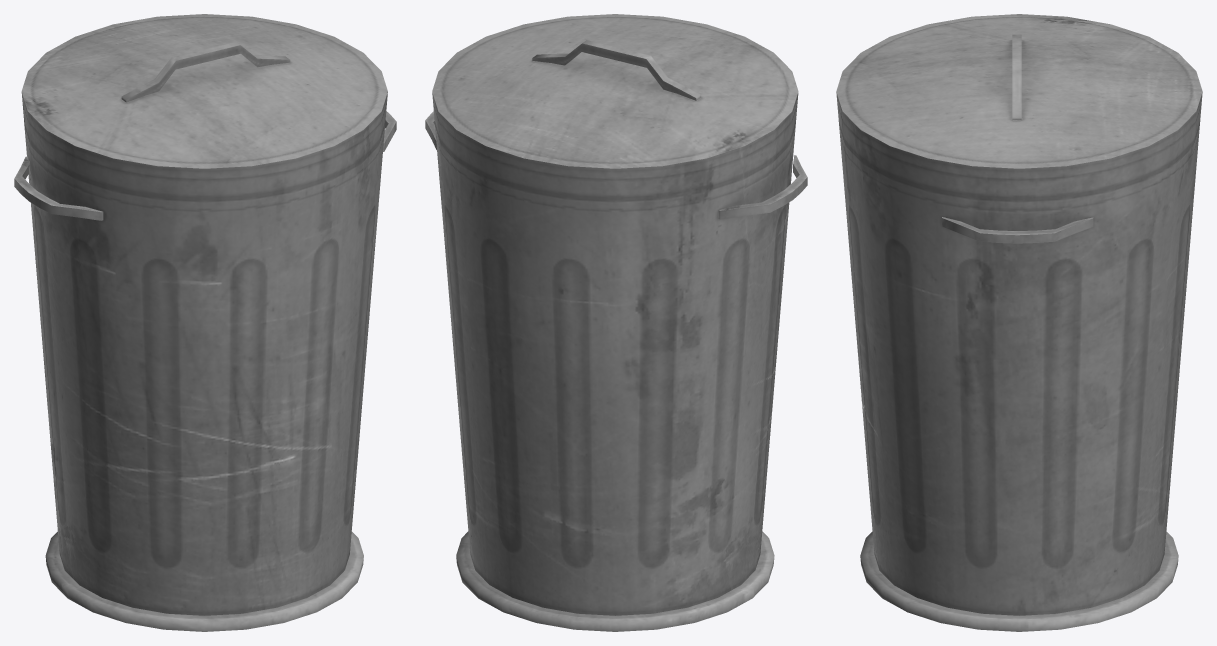
Rendered from Trashcan_a.fbx.
3 views of the same model, side by side, from view 1: azimuth 30°, elevation 25°; view 2: azimuth 150°, elevation 25°; view 3: azimuth 270°, elevation 25° (orthographic).
Visible parts, largest first — view 1: Trashcan_a; view 2: Trashcan_a; view 3: Trashcan_a.
Part boxes in pixels (bbox=[...]): Trashcan_a: bbox=[14, 14, 396, 631]; Trashcan_a: bbox=[425, 14, 807, 631]; Trashcan_a: bbox=[836, 14, 1202, 631].
Size of the model in its own units: 43.05 by 59.99 by 38.7.
